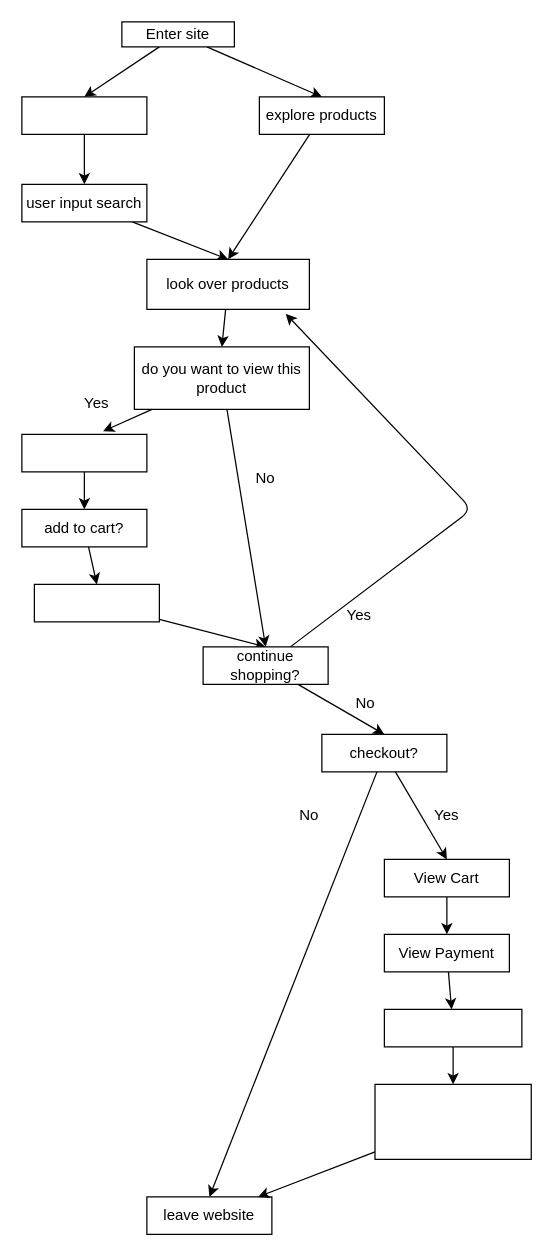
Some shapes in this 554 by 1256 pixel diagram are drawn without their labels. Each missing label, with the box of its shape:
add to cart confirmation: (33, 583, 159, 622)
Input payment info: (383, 1008, 522, 1047)
open product webpage: (21, 433, 147, 472)
Order confirmation screen + email: (374, 1083, 531, 1159)
search product: (21, 96, 147, 134)
